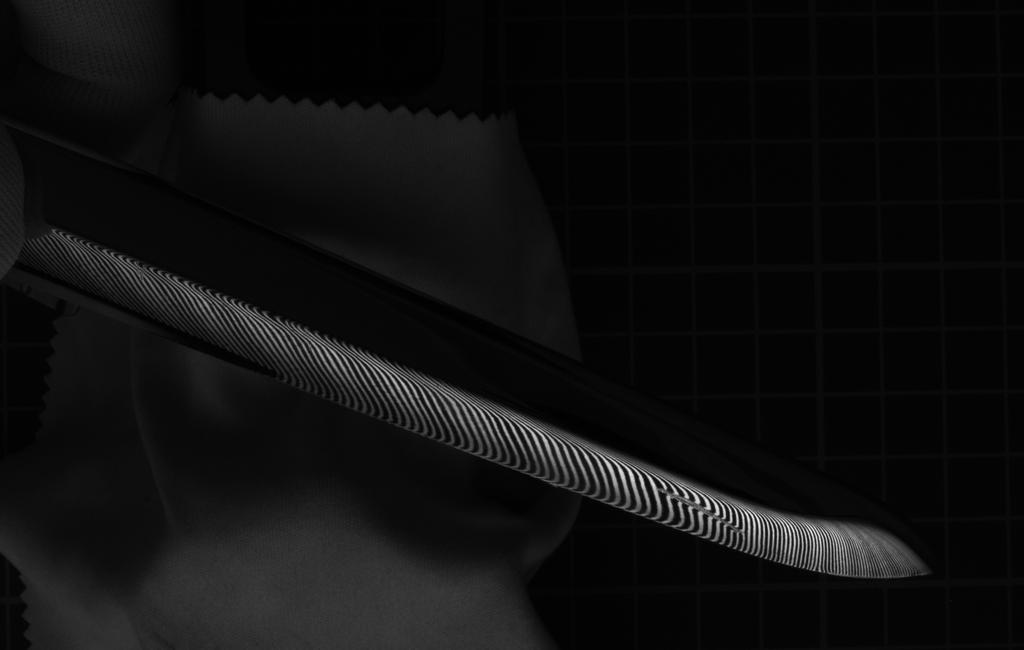Scratch: (652, 481, 753, 539)
